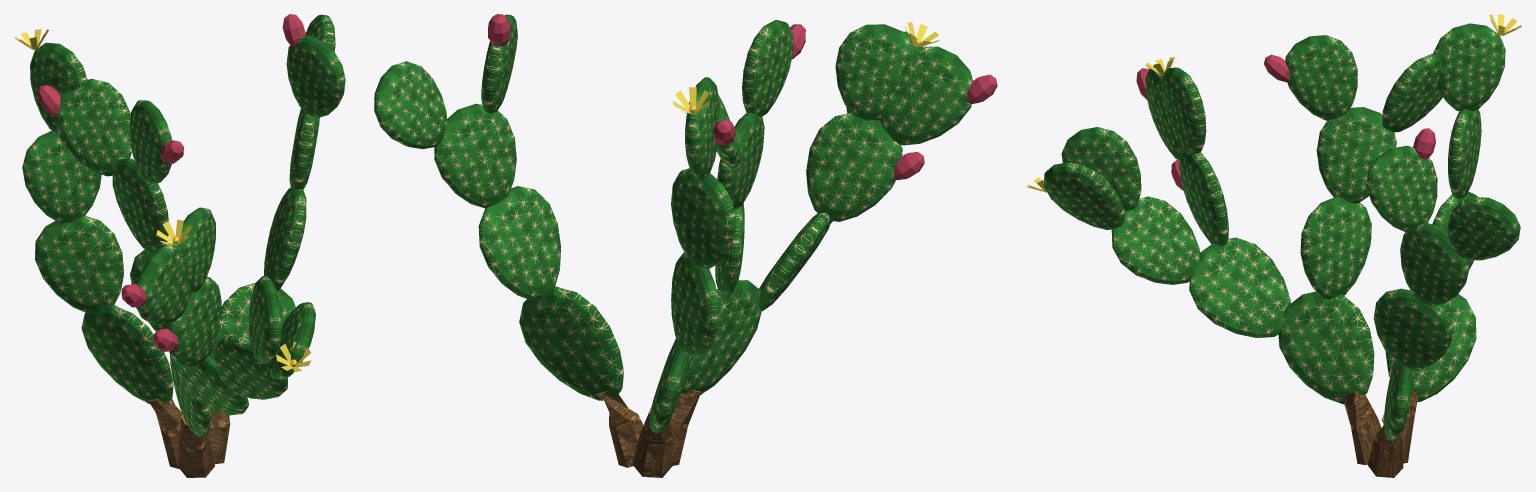
Rendered from prickly_pear_v01.glb.
The picture shows the model from 3 angles, left to right: view 1: azimuth 30°, elevation 25°; view 2: azimuth 150°, elevation 25°; view 3: azimuth 270°, elevation 25°; orthographic projection. The views are drawn at different scales.
Parts seen in each view (by area): view 1: prickly_pear_v01; view 2: prickly_pear_v01; view 3: prickly_pear_v01.
Part boxes in pixels (x1,y1,x2,y2): prickly_pear_v01: [14, 14, 345, 477]; prickly_pear_v01: [374, 14, 997, 477]; prickly_pear_v01: [1027, 14, 1521, 477].
Size of the model in its own units: 0.6335 by 0.65 by 0.7251.
Materials: 4 (2 with a texture image).
